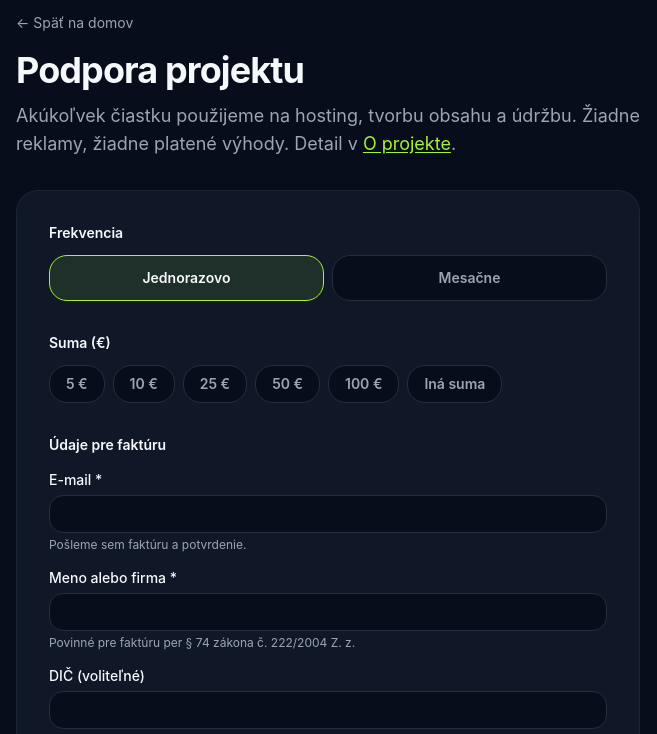
Scenario: DonateForm (/podpora) › shows monthly tiers with no custom-amount option
Step 1. Click the radio button labelled "Mesačne" → (470, 278), box [332,255,607,301]
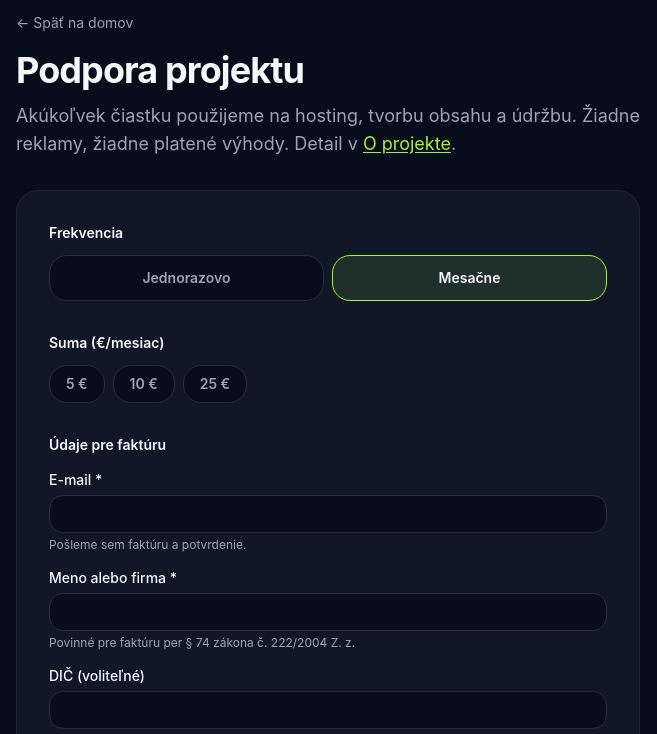
Expected: the radio button labelled "5 €" is shown, [49,365,105,403]
Now the radio button labelled "Iná suma" is gone
